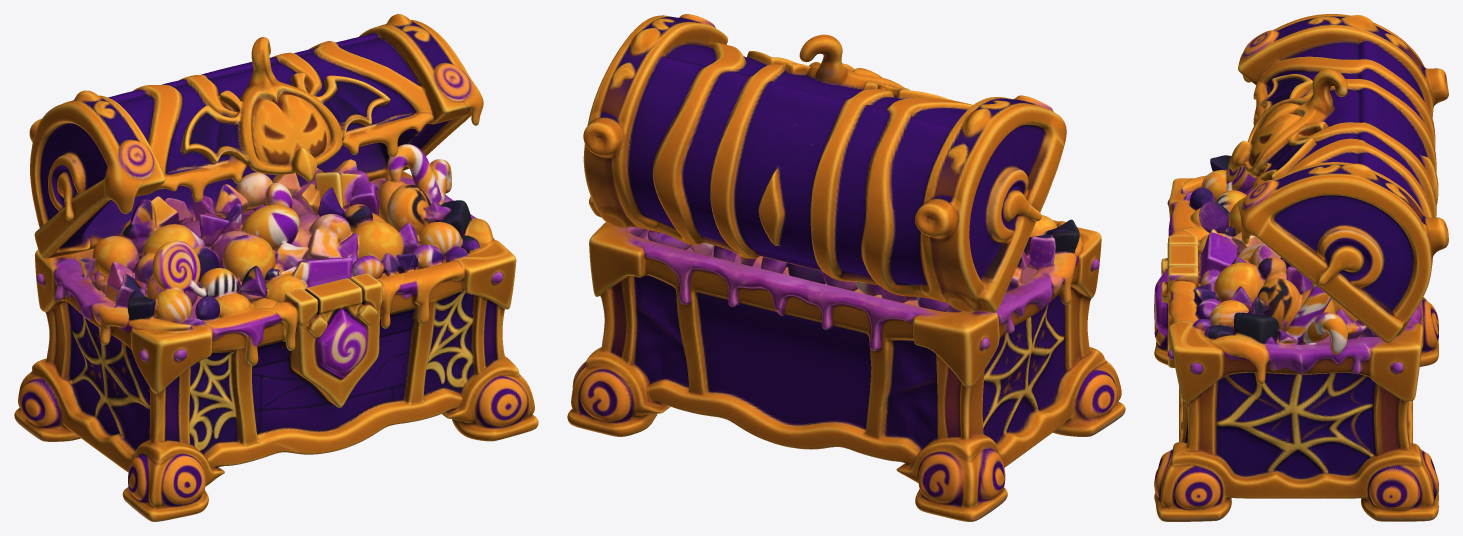
Rendered from Chaseween_Candy_Chest.glb.
The picture shows the model from 3 angles, left to right: view 1: azimuth 30°, elevation 25°; view 2: azimuth 150°, elevation 25°; view 3: azimuth 270°, elevation 25°; orthographic projection. The views are drawn at different scales.
Bounding box in the file's own units: 1.9 × 1.72 × 1.26.
1 material, 1 textured.
